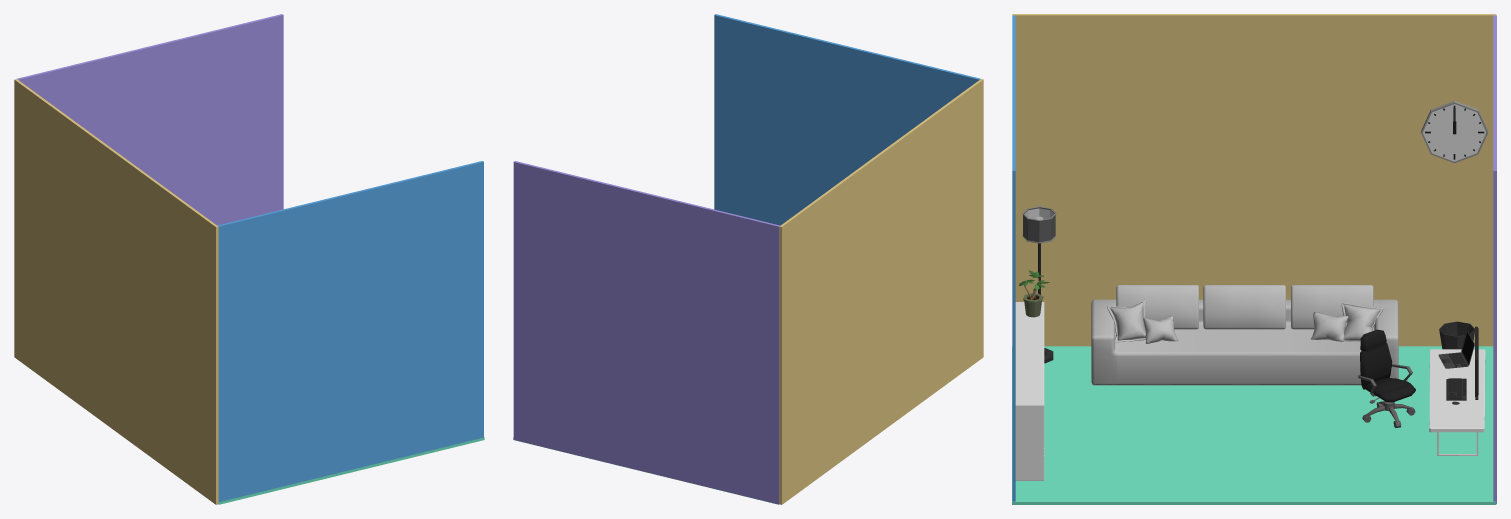
The model's file is room03_named.glb.
The picture shows the model from 3 angles, left to right: view 1: azimuth 30°, elevation 25°; view 2: azimuth 150°, elevation 25°; view 3: azimuth 270°, elevation 25°; orthographic projection. The views are drawn at different scales.
Parts seen in each view (by area): view 1: Wall_L, Wall_B, Wall_R, Floor; view 2: Wall_R, Wall_B, Wall_L; view 3: Wall_B, Floor, Couch, Bookshellf, DeskTop, Clock, Computer Chair, Wall_R, Wall_L, Lamp, Bin, Plant (+1 smaller).
Boxes of the visible parts, x1,y1,x2,y2 form: Wall_L: (217,161,483,503); Wall_B: (14,79,218,504); Wall_R: (17,14,283,225); Floor: (219,437,484,504); Wall_R: (513,161,779,504); Wall_B: (779,79,983,504); Wall_L: (714,14,980,225); Wall_B: (1012,14,1496,346); Floor: (1012,346,1496,504); Couch: (1091,285,1398,385); Bookshellf: (1015,302,1044,480); DeskTop: (1429,349,1485,432); Clock: (1421,101,1488,163); Computer Chair: (1358,329,1415,427); Wall_R: (1493,15,1496,503); Wall_L: (1012,15,1015,501); Lamp: (1022,206,1056,363); Bin: (1439,321,1474,349); Plant: (1019,270,1049,317).
Size of the model in its own units: 20.07 by 19.88 by 26.17.
Materials: 32 (1 with a texture image).
